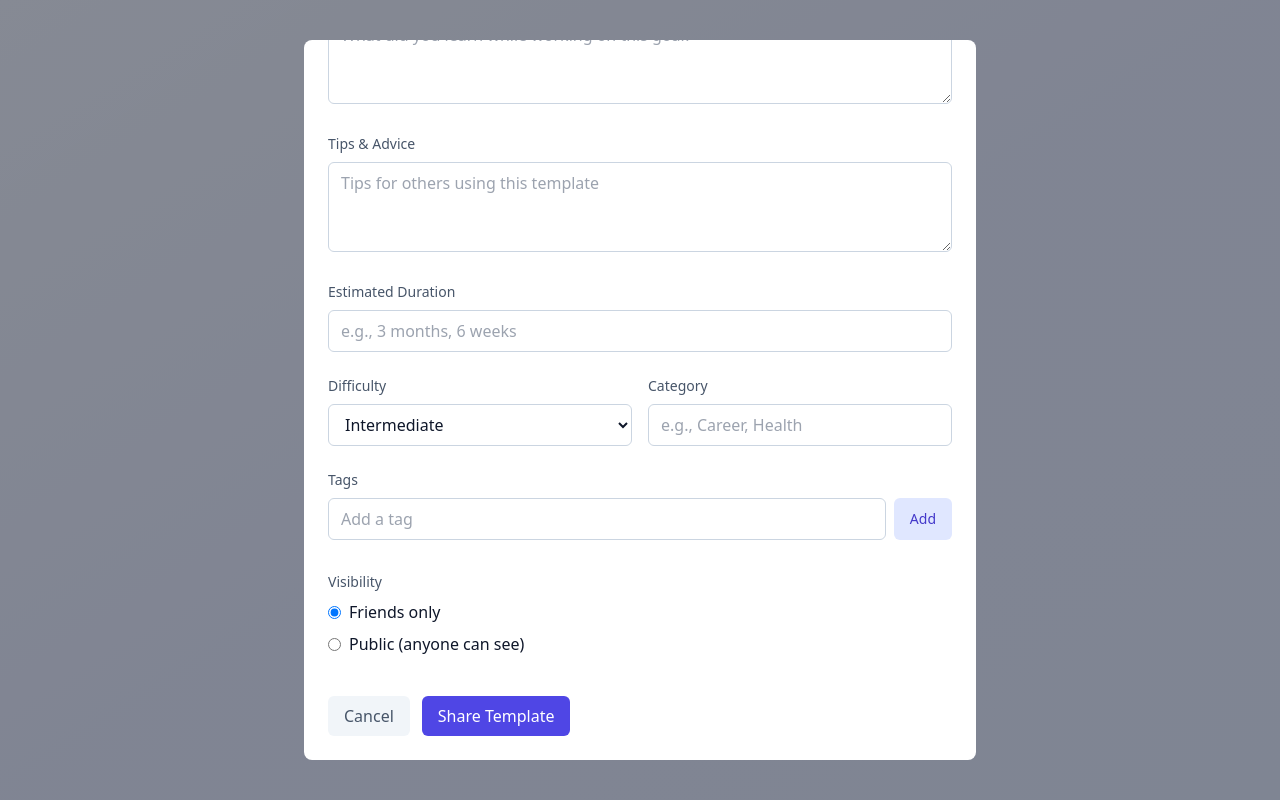
ShareGoalModal › shows Publish to Marketplace checkbox when public visibility is selected
(page scrolled)
Click the radio button showing "public" at (334, 644), box 328,638 -> 341,650
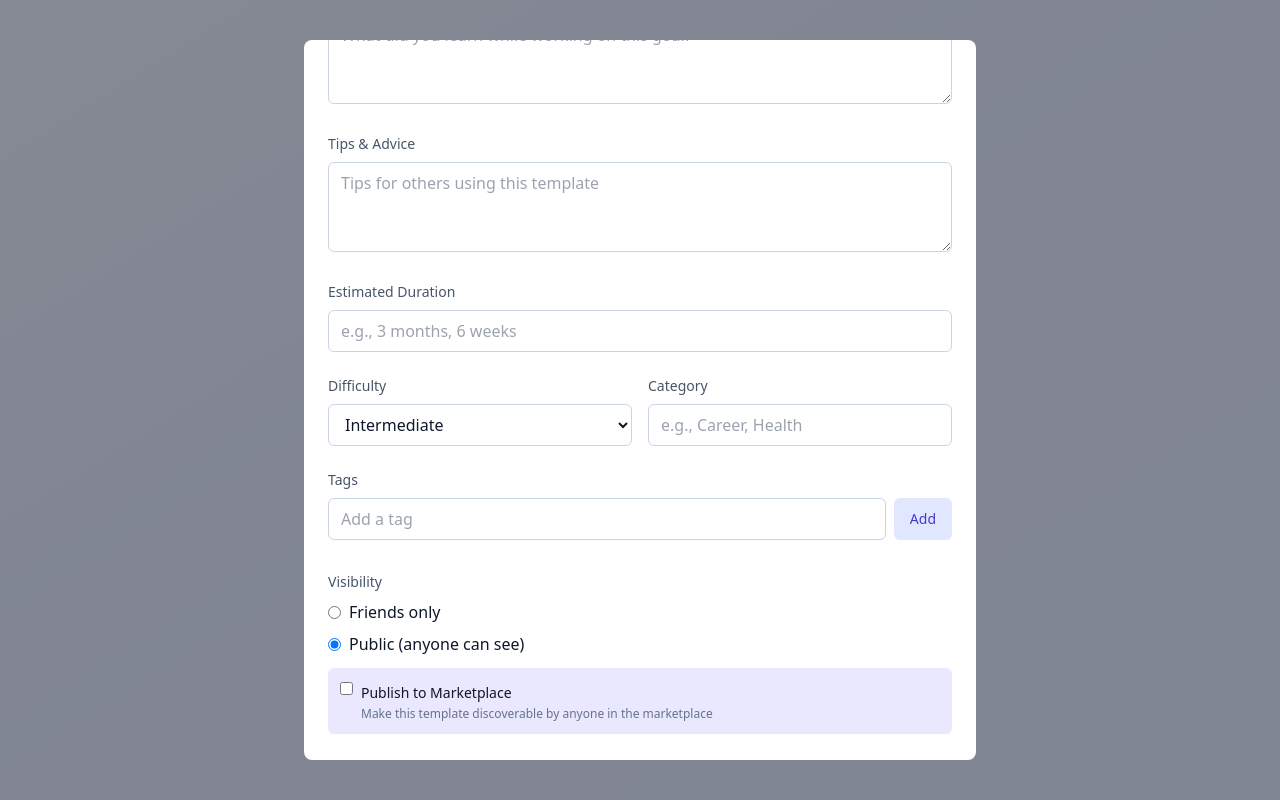
Now the text "Publish to Marketplace" is shown, box 361,683 -> 512,702
